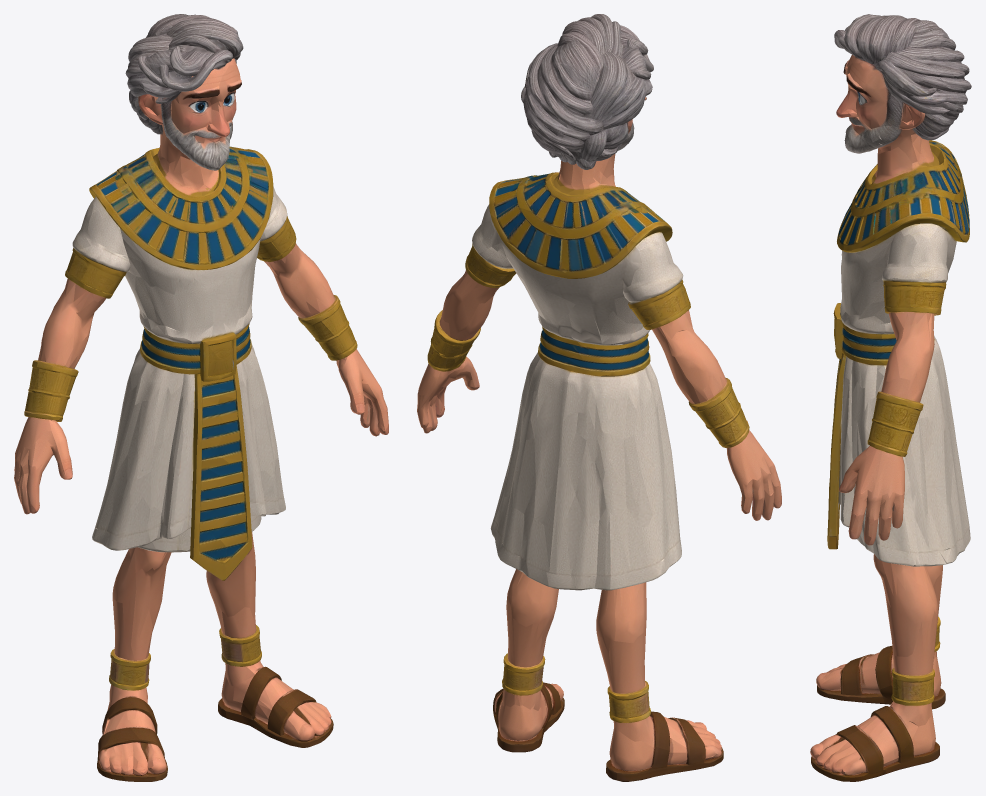
The model's file is violinist_egypt.fbx.
The picture shows the model from 3 angles, left to right: view 1: azimuth 30°, elevation 25°; view 2: azimuth 150°, elevation 25°; view 3: azimuth 270°, elevation 25°; orthographic projection.
Visible parts, largest first — view 1: violinist_egypt; view 2: violinist_egypt; view 3: violinist_egypt.
Part boxes in pixels (box(x1,y1,x2,y2)): violinist_egypt: box(14, 14, 388, 781); violinist_egypt: box(417, 14, 781, 781); violinist_egypt: box(810, 14, 971, 781).
Bounding box in the file's own units: 0.959 × 1.85 × 0.3805.
1 material, 1 textured.
